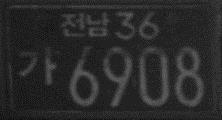0: (138, 45, 168, 107)
3: (112, 10, 136, 40)
6: (69, 44, 100, 107), (137, 8, 159, 39)
8: (174, 45, 205, 111)
9: (102, 45, 134, 110)
가: (18, 42, 56, 88)
전남_O: (60, 11, 110, 38)
